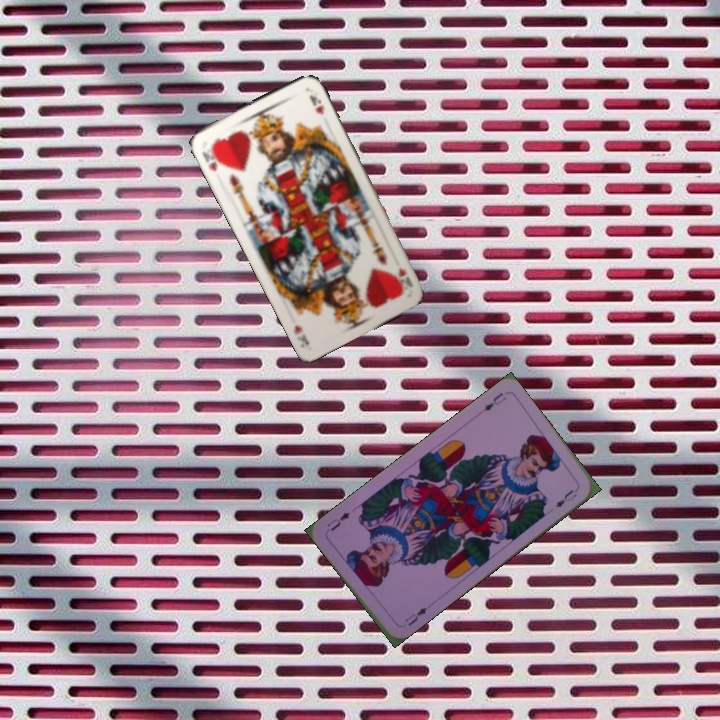EU: (401, 603, 430, 629), (479, 388, 509, 413)
HK: (198, 142, 223, 174), (394, 263, 415, 290)
